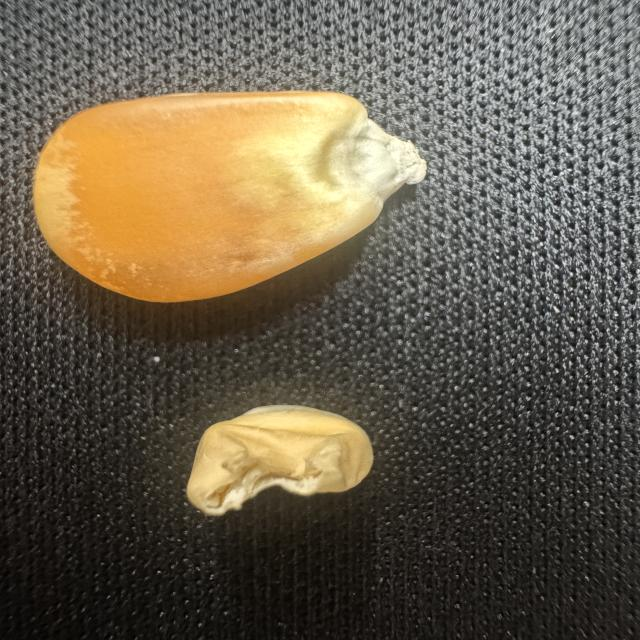Bad-Seed: (161, 405, 384, 523)
Good-Seed: (26, 81, 444, 309)
